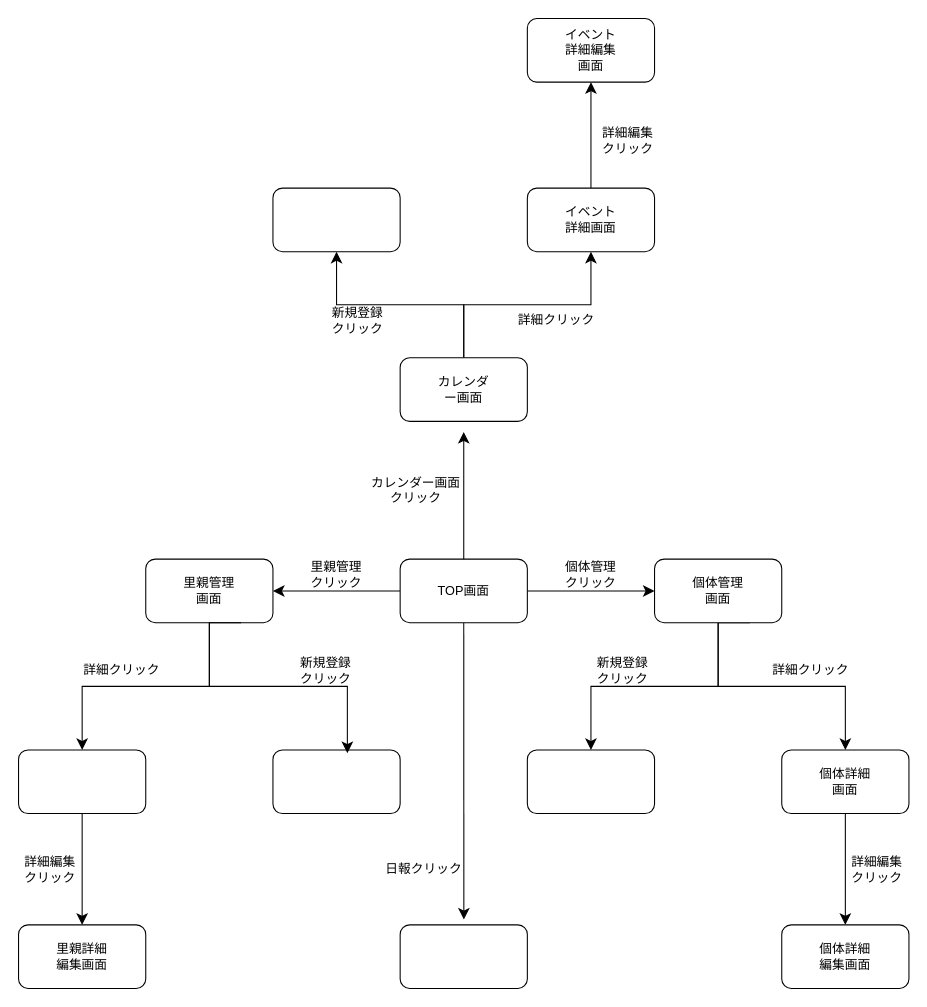
Image size: 927x1007. Some labels were removed from this diagram. The shapes that lost their labels are listed below. From the top down, each one's centre as x and y in pixels, then its label:
point 336,219: イベント新規登録画面
point 81,781: 里親詳細画面
point 336,781: 里親新規登録画面
point 590,781: 個体新規登録画面
point 463,956: 日報画面
